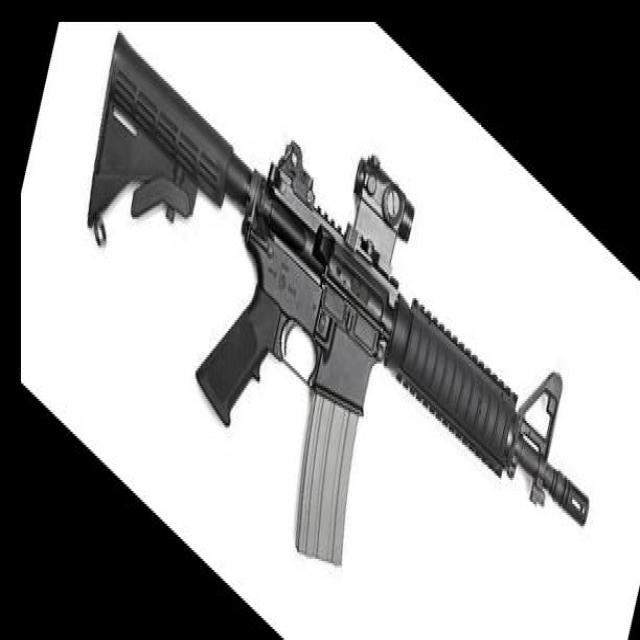weapon: (87, 31, 590, 570)
